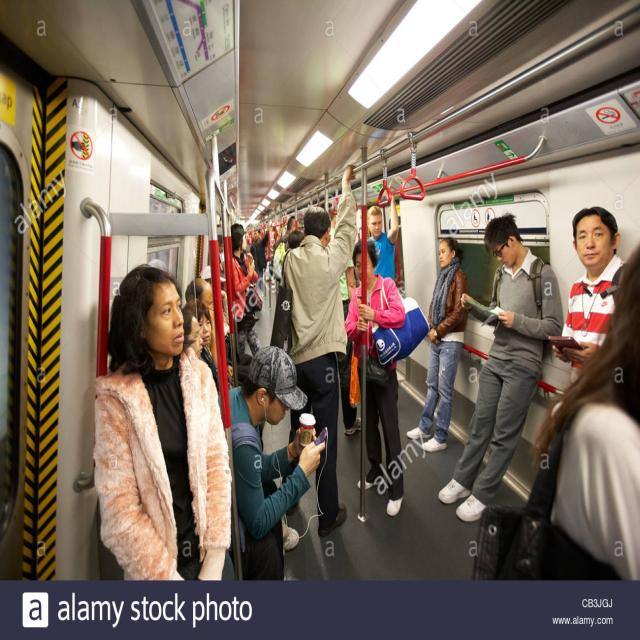body: (93, 263, 232, 581), (434, 211, 564, 523), (521, 208, 633, 526), (279, 163, 359, 538), (217, 346, 329, 581), (343, 238, 407, 518), (550, 205, 628, 386), (406, 236, 467, 455), (325, 202, 362, 437), (287, 501, 366, 588), (182, 279, 236, 393), (200, 264, 254, 366), (230, 223, 265, 358), (182, 298, 221, 397), (367, 188, 400, 282), (248, 225, 270, 292), (180, 306, 203, 361), (272, 214, 300, 259), (265, 231, 274, 300), (148, 252, 174, 274), (288, 229, 305, 249), (216, 241, 226, 275), (273, 221, 285, 245), (243, 232, 250, 256)
